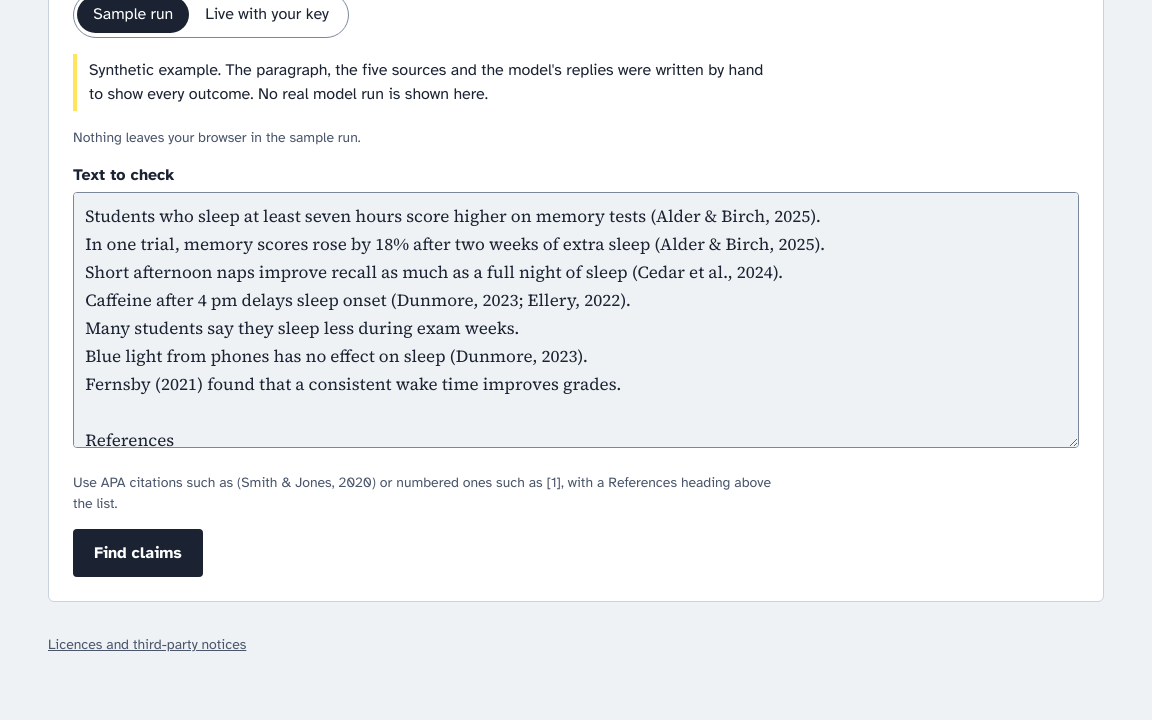
Test: App › runs the sample end to end with no key
(page scrolled)
Click the button "Find claims" at (138, 553), box x1=73 y1=529 x2=203 y2=577
(page scrolled)
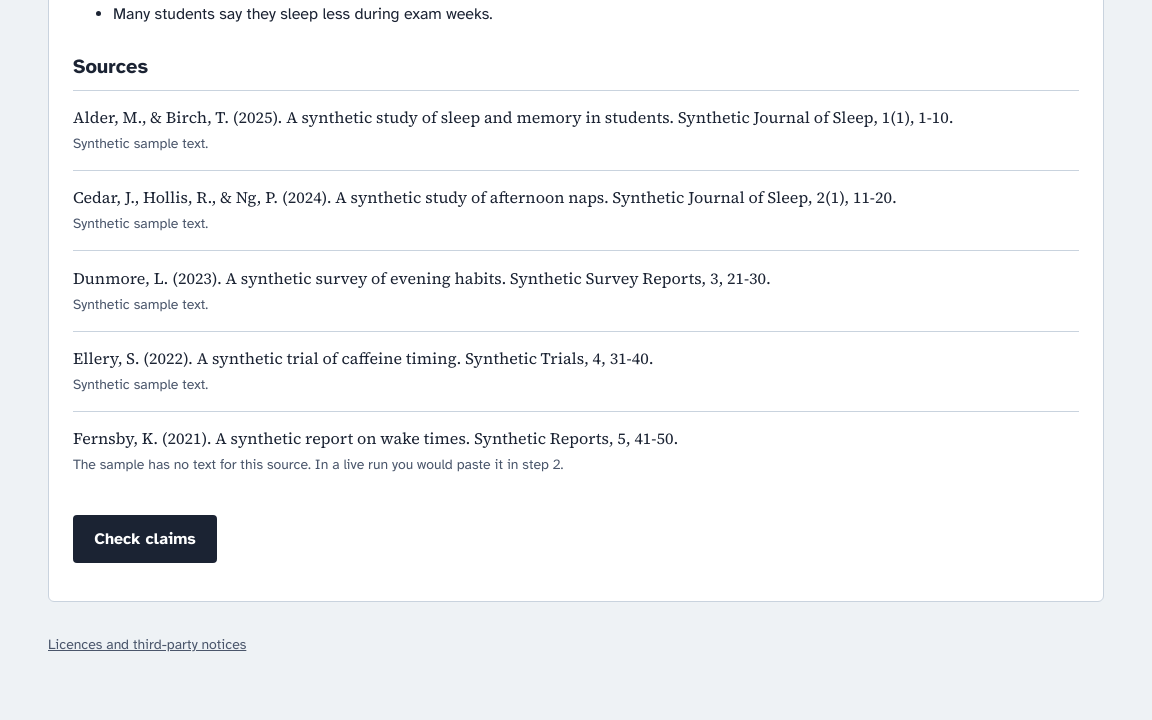
expect the list named "Not checked: no citation" reads "Many students say they sleep less during exam weeks.": met, box x1=113 y1=4 x2=493 y2=24
Click the button "Check claims" at (145, 540), box x1=73 y1=516 x2=217 y2=564
(page scrolled)
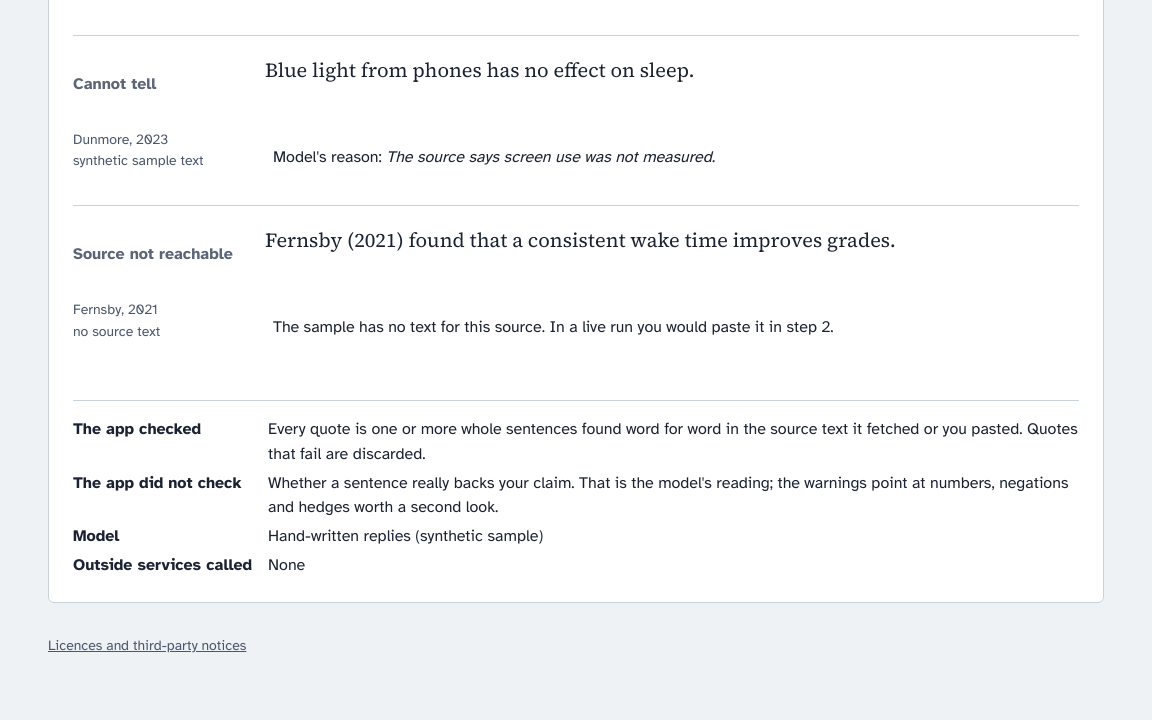
expect the text "Hand-written replies (synthetic sample)" is shown: met, box x1=268 y1=526 x2=543 y2=546
expect the text "None" is shown: met, box x1=268 y1=555 x2=305 y2=575
